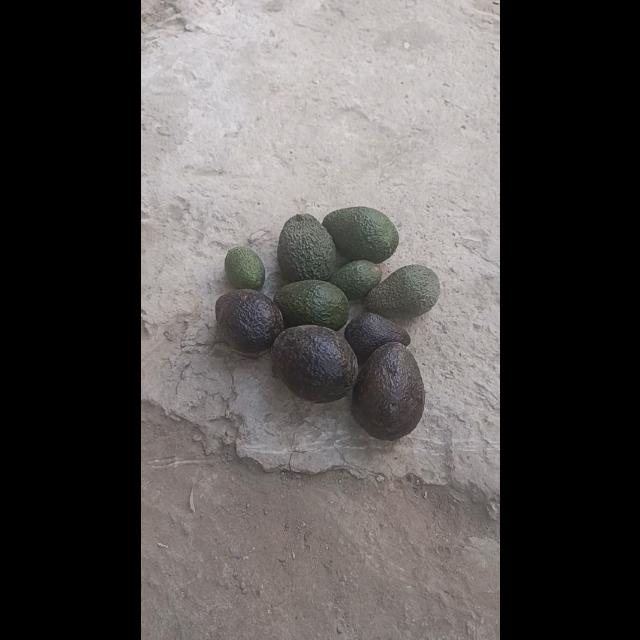Primera: (350, 344, 424, 438), (270, 324, 356, 402), (320, 204, 398, 264), (213, 288, 283, 352), (274, 212, 336, 282)
Segunda: (364, 262, 440, 320), (274, 280, 348, 332)
Tercera: (344, 312, 410, 361), (330, 259, 382, 301), (223, 246, 264, 290)
